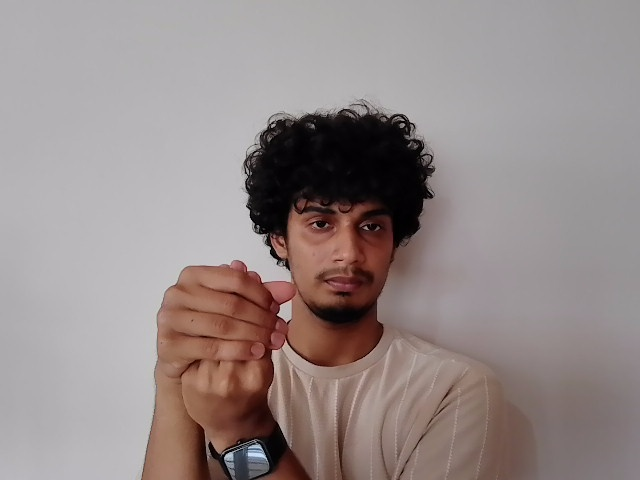with: (150, 253, 295, 426)
